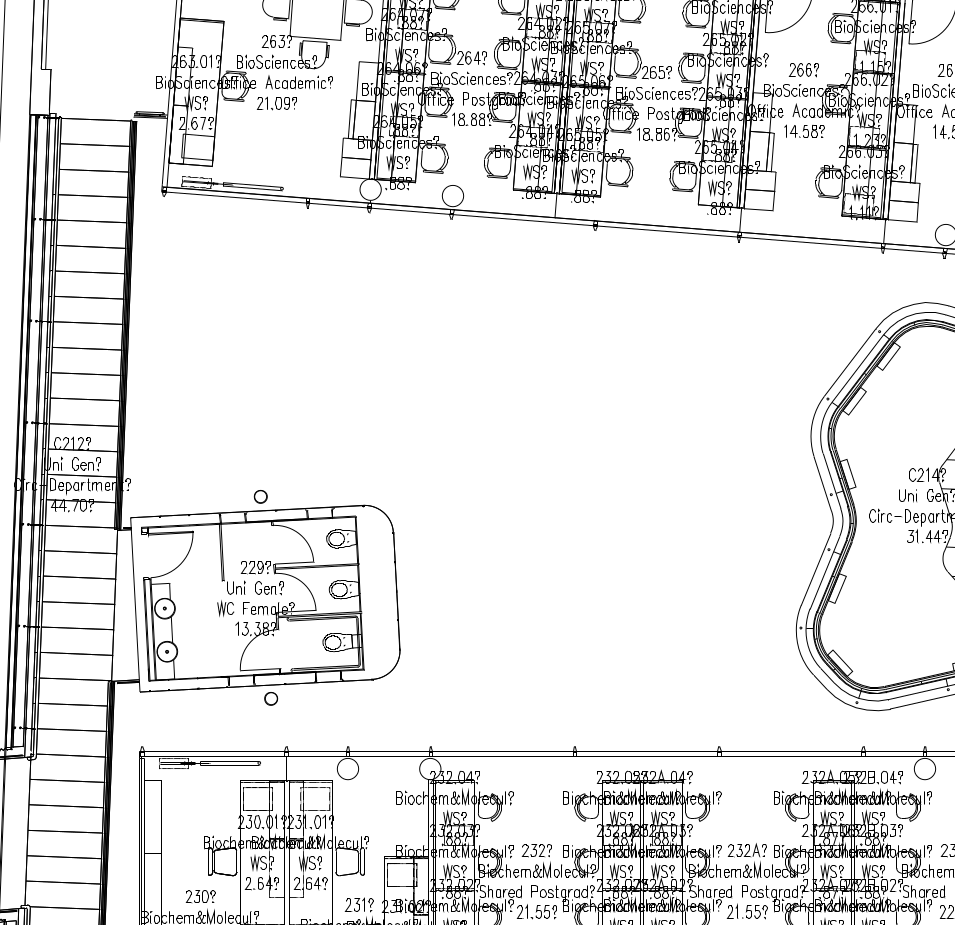door: (148, 529, 201, 583), (905, 4, 955, 53), (264, 523, 316, 568), (269, 567, 321, 612), (226, 626, 278, 671), (761, 1, 813, 44)
